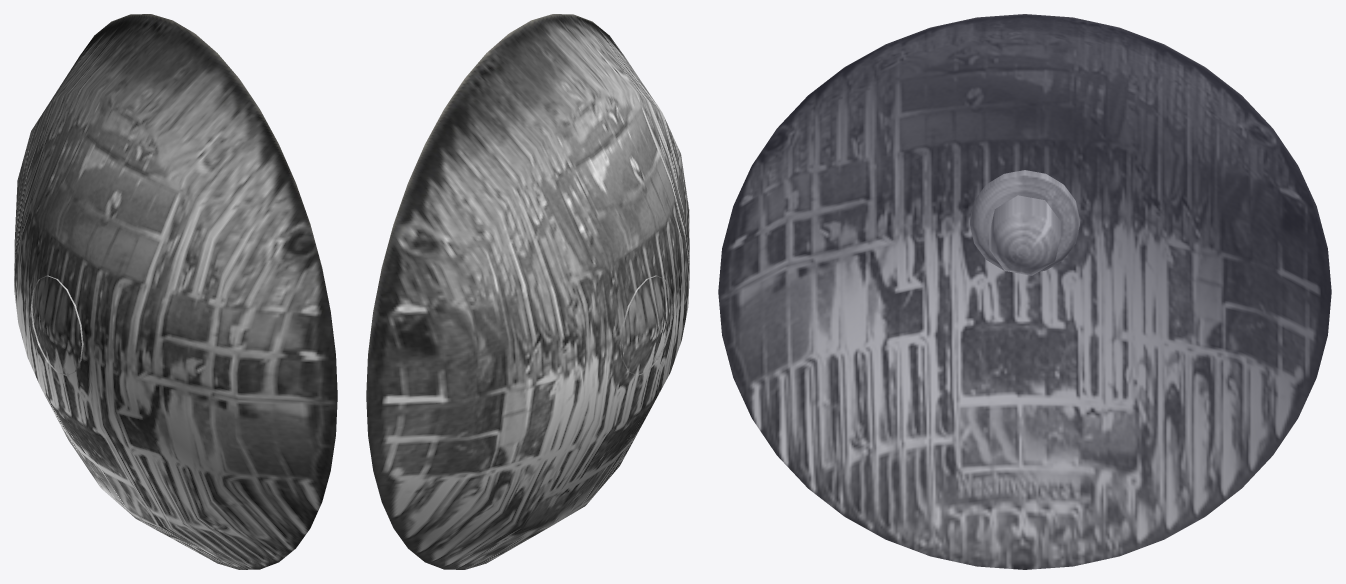
The picture shows the model from 3 angles, left to right: view 1: azimuth 30°, elevation 25°; view 2: azimuth 150°, elevation 25°; view 3: azimuth 270°, elevation 25°; orthographic projection. The views are drawn at different scales.
Parts seen in each view (by area): view 1: J715_8A_061B_R_J715_8A_061B_R_2_N; view 2: J715_8A_061B_R_J715_8A_061B_R_2_N; view 3: J715_8A_061B_R_J715_8A_061B_R_2_N, J715_8A_061B_R_1_DTaSI_J715_8A_061B_R.
Part boxes in pixels (<box>): J715_8A_061B_R_J715_8A_061B_R_2_N: <box>14,14,337,569</box>; J715_8A_061B_R_J715_8A_061B_R_2_N: <box>366,14,689,569</box>; J715_8A_061B_R_J715_8A_061B_R_2_N: <box>718,14,1331,569</box>; J715_8A_061B_R_1_DTaSI_J715_8A_061B_R: <box>718,14,1331,569</box>.
Bounding box in the file's own units: 9.05 × 23.75 × 23.75.
